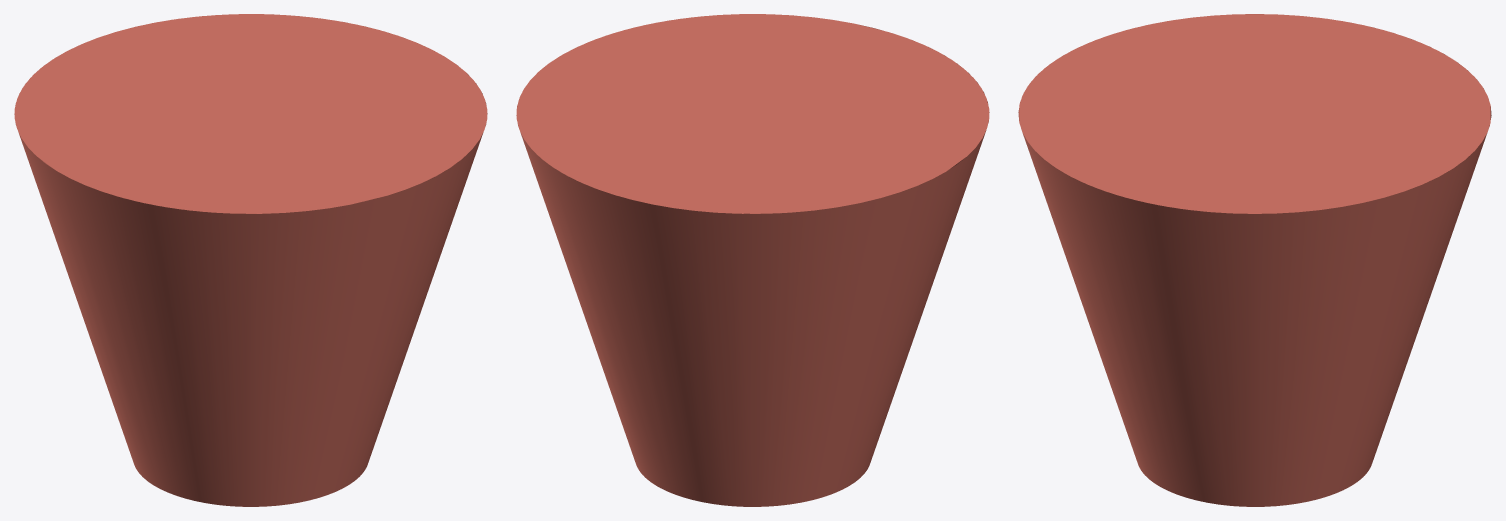
The model's file is yuantai.FBX.
3 views of the same model, side by side, from view 1: azimuth 30°, elevation 25°; view 2: azimuth 150°, elevation 25°; view 3: azimuth 270°, elevation 25° (orthographic).
Visible parts, largest first — view 1: TRM_SRF (×3); view 2: TRM_SRF (×3); view 3: TRM_SRF (×3).
Boxes of the visible parts, <box> form: TRM_SRF (×3): <box>14,14,487,506</box>; TRM_SRF (×3): <box>516,14,989,506</box>; TRM_SRF (×3): <box>1018,14,1491,506</box>.
Bounding box in the file's own units: 39.37 × 31.5 × 39.37.
